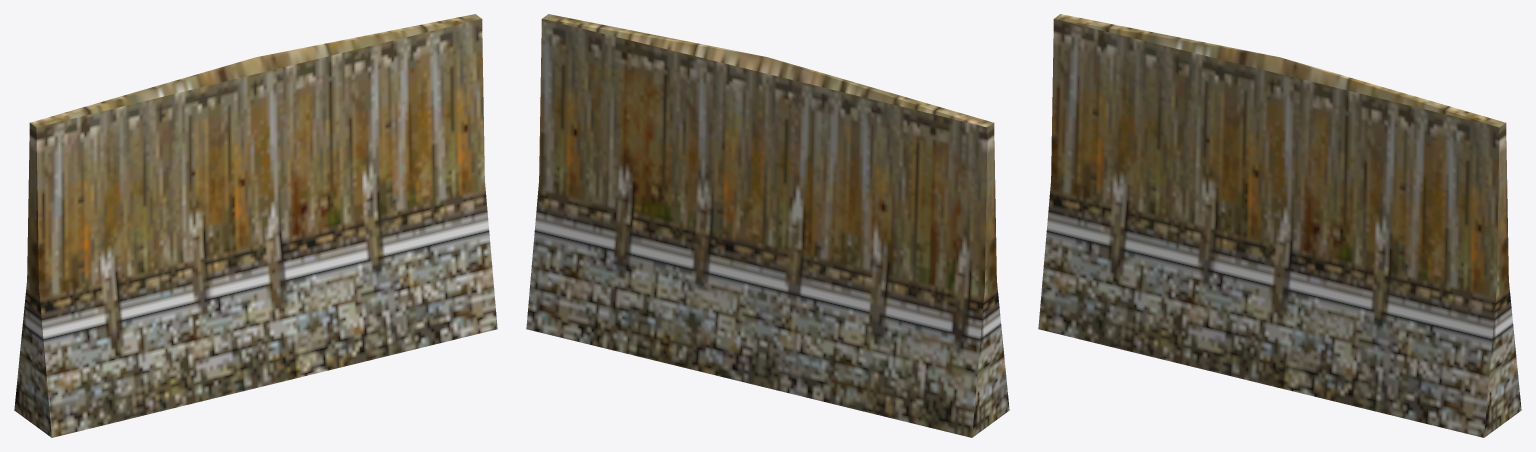
File: wall_short_base.glb
The picture shows the model from 3 angles, left to right: view 1: azimuth 30°, elevation 25°; view 2: azimuth 150°, elevation 25°; view 3: azimuth 330°, elevation 25°; orthographic projection.
Parts seen in each view (by area): view 1: MeshRoot; view 2: MeshRoot; view 3: MeshRoot.
Boxes of the visible parts, box(x1,y1,x2,y2) form: MeshRoot: box(14, 14, 497, 437); MeshRoot: box(526, 14, 1009, 437); MeshRoot: box(1038, 14, 1521, 437).
Size of the model in its own units: 4.84 by 3.25 by 0.707.
Materials: 2 (2 with a texture image).
